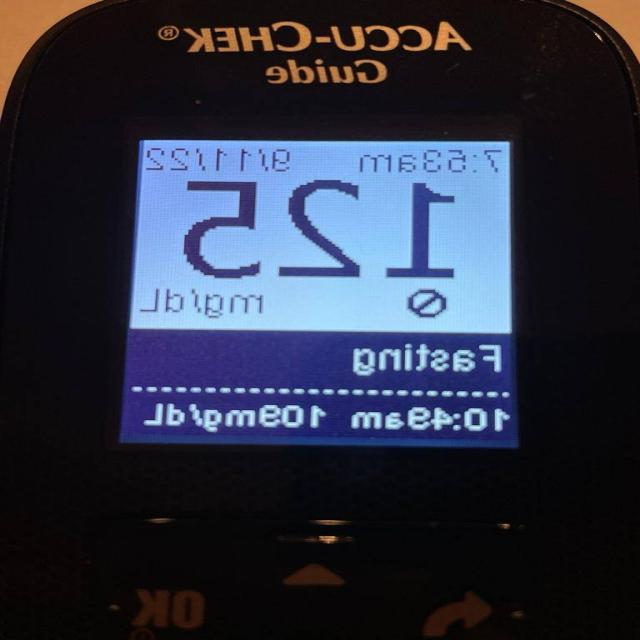gluco: (1, 0, 640, 639)
